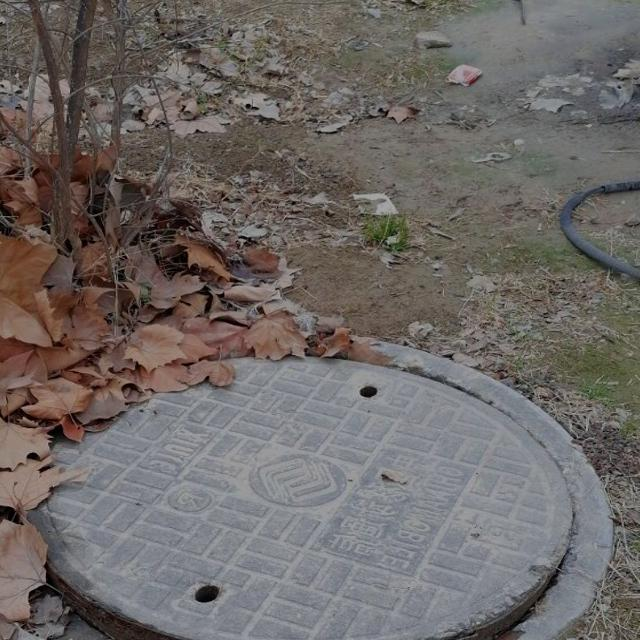uncovered: (0, 331, 583, 640)
